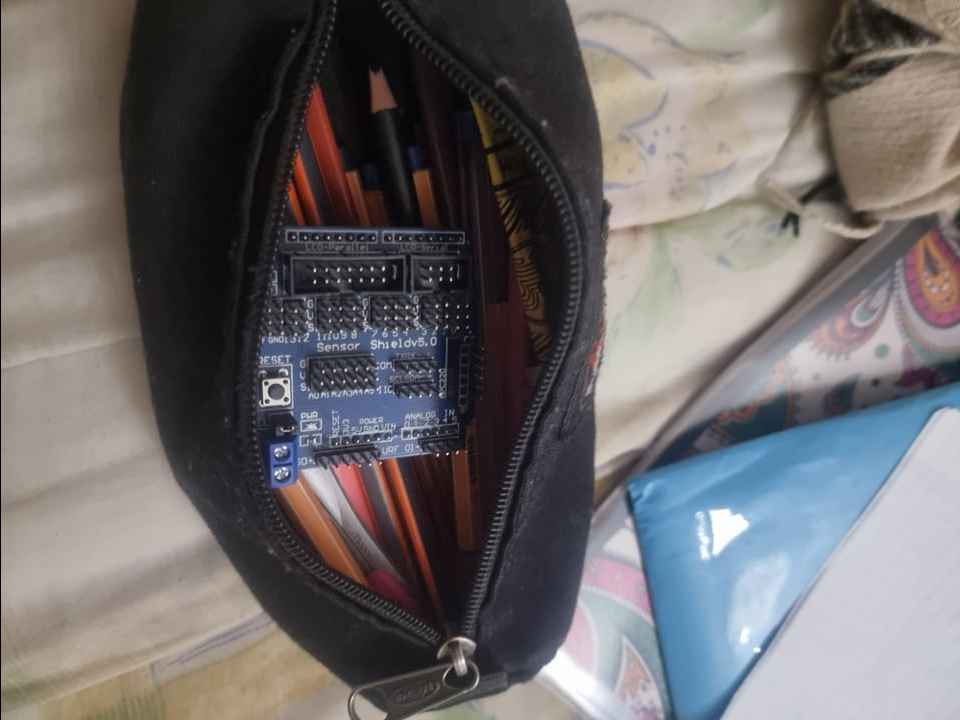5V EXPANSION: (252, 220, 475, 490)
